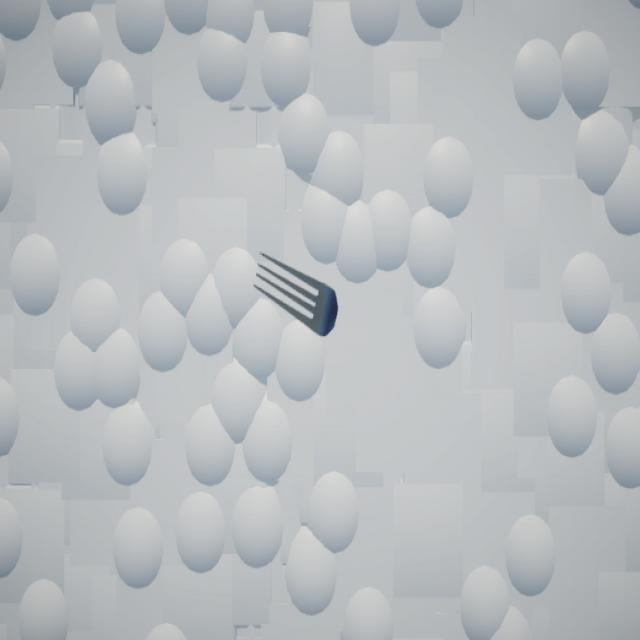top_folk: (254, 254, 339, 338)
